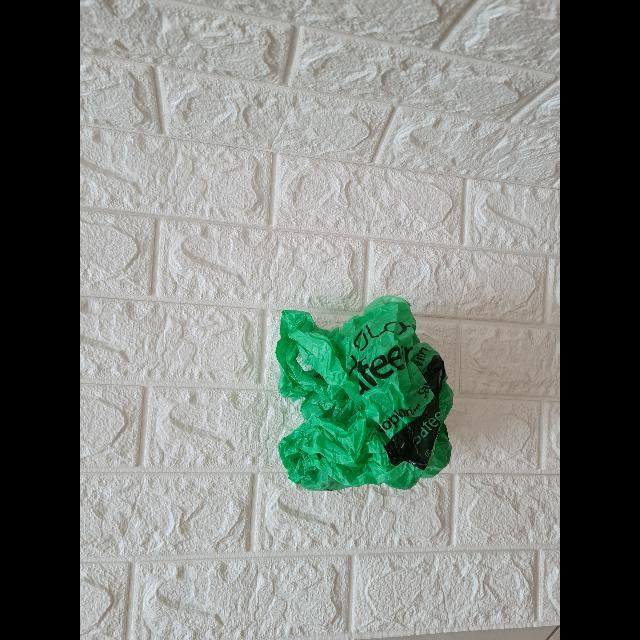plastic_bag: (250, 286, 460, 506)
